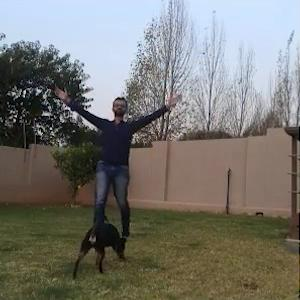takeoff: (43, 64, 186, 241)
